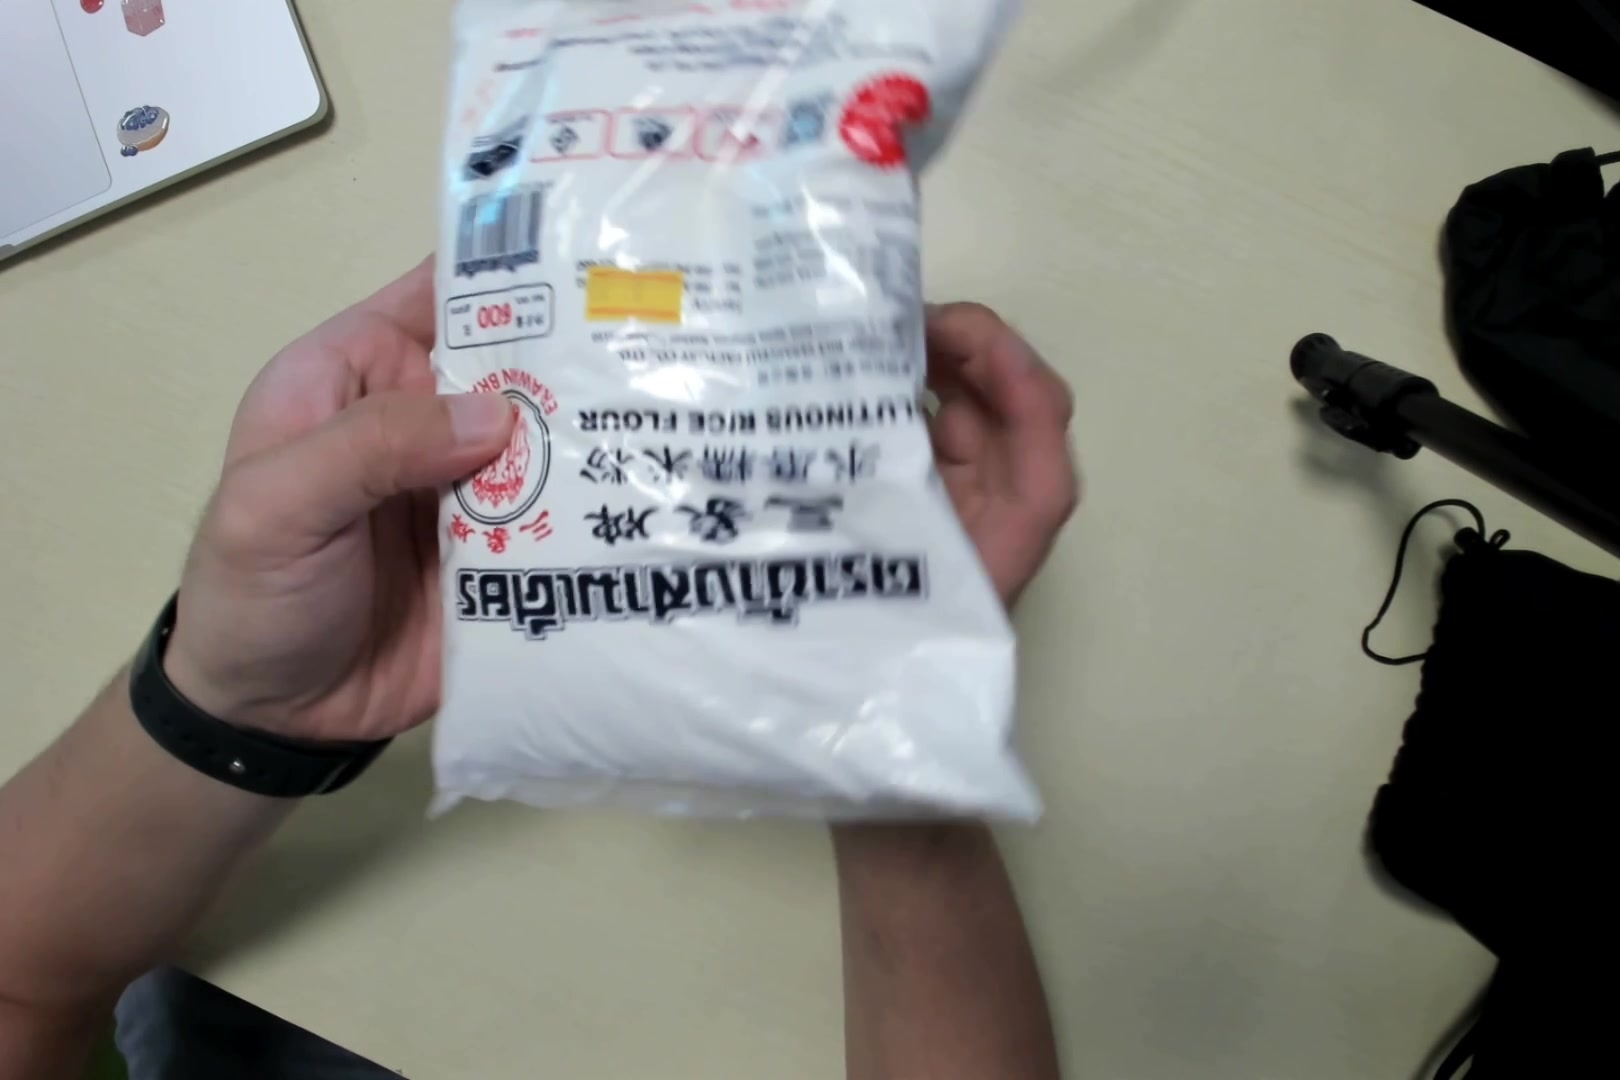OtherBakingNeeds_600-699g_Halal_NonHealthy: (430, 7, 1039, 812)
